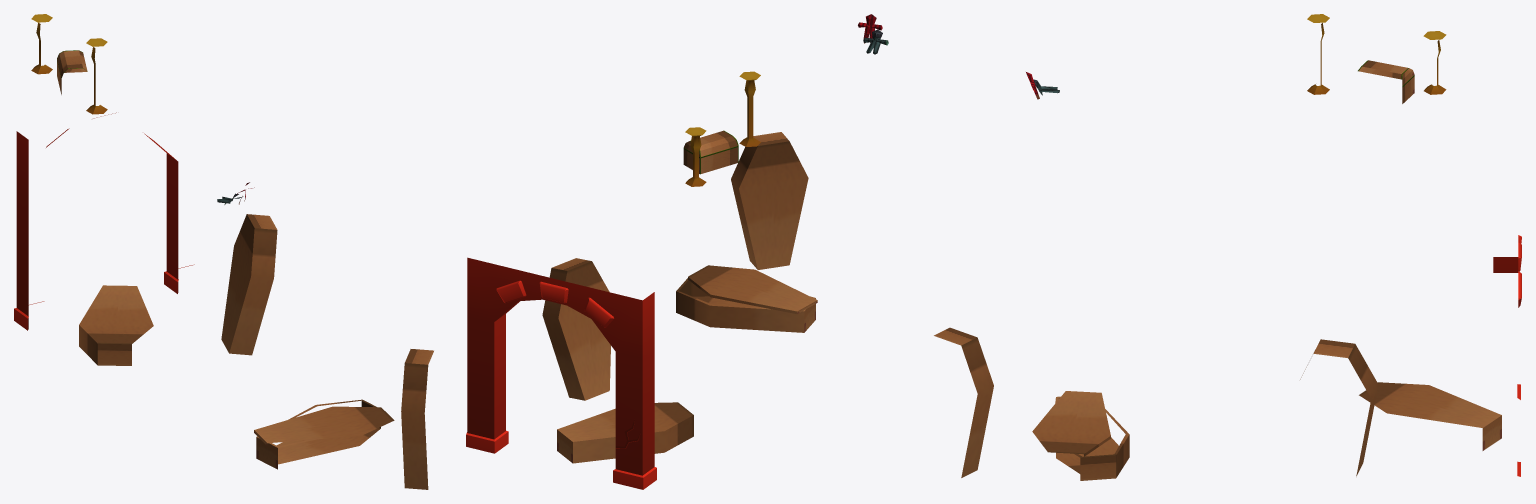
Rendered from 1.100_SanFrancisco_event_03.glb.
3 views of the same model, side by side, from view 1: azimuth 30°, elevation 25°; view 2: azimuth 150°, elevation 25°; view 3: azimuth 270°, elevation 25° (orthographic). The views are drawn at different scales.
Parts seen in each view (by area): view 1: 1.100_SanFrancisco_event_03; view 2: 1.100_SanFrancisco_event_03; view 3: 1.100_SanFrancisco_event_03.
Part boxes in pixels (bbox=[...]): 1.100_SanFrancisco_event_03: bbox=[14, 14, 433, 489]; 1.100_SanFrancisco_event_03: bbox=[466, 14, 888, 489]; 1.100_SanFrancisco_event_03: bbox=[934, 14, 1521, 480].
Bounding box in the file's own units: 65.23 × 108 × 158.
Materials: 1 (1 with a texture image).
